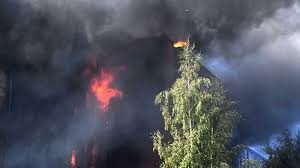fire: (82, 36, 133, 111)
